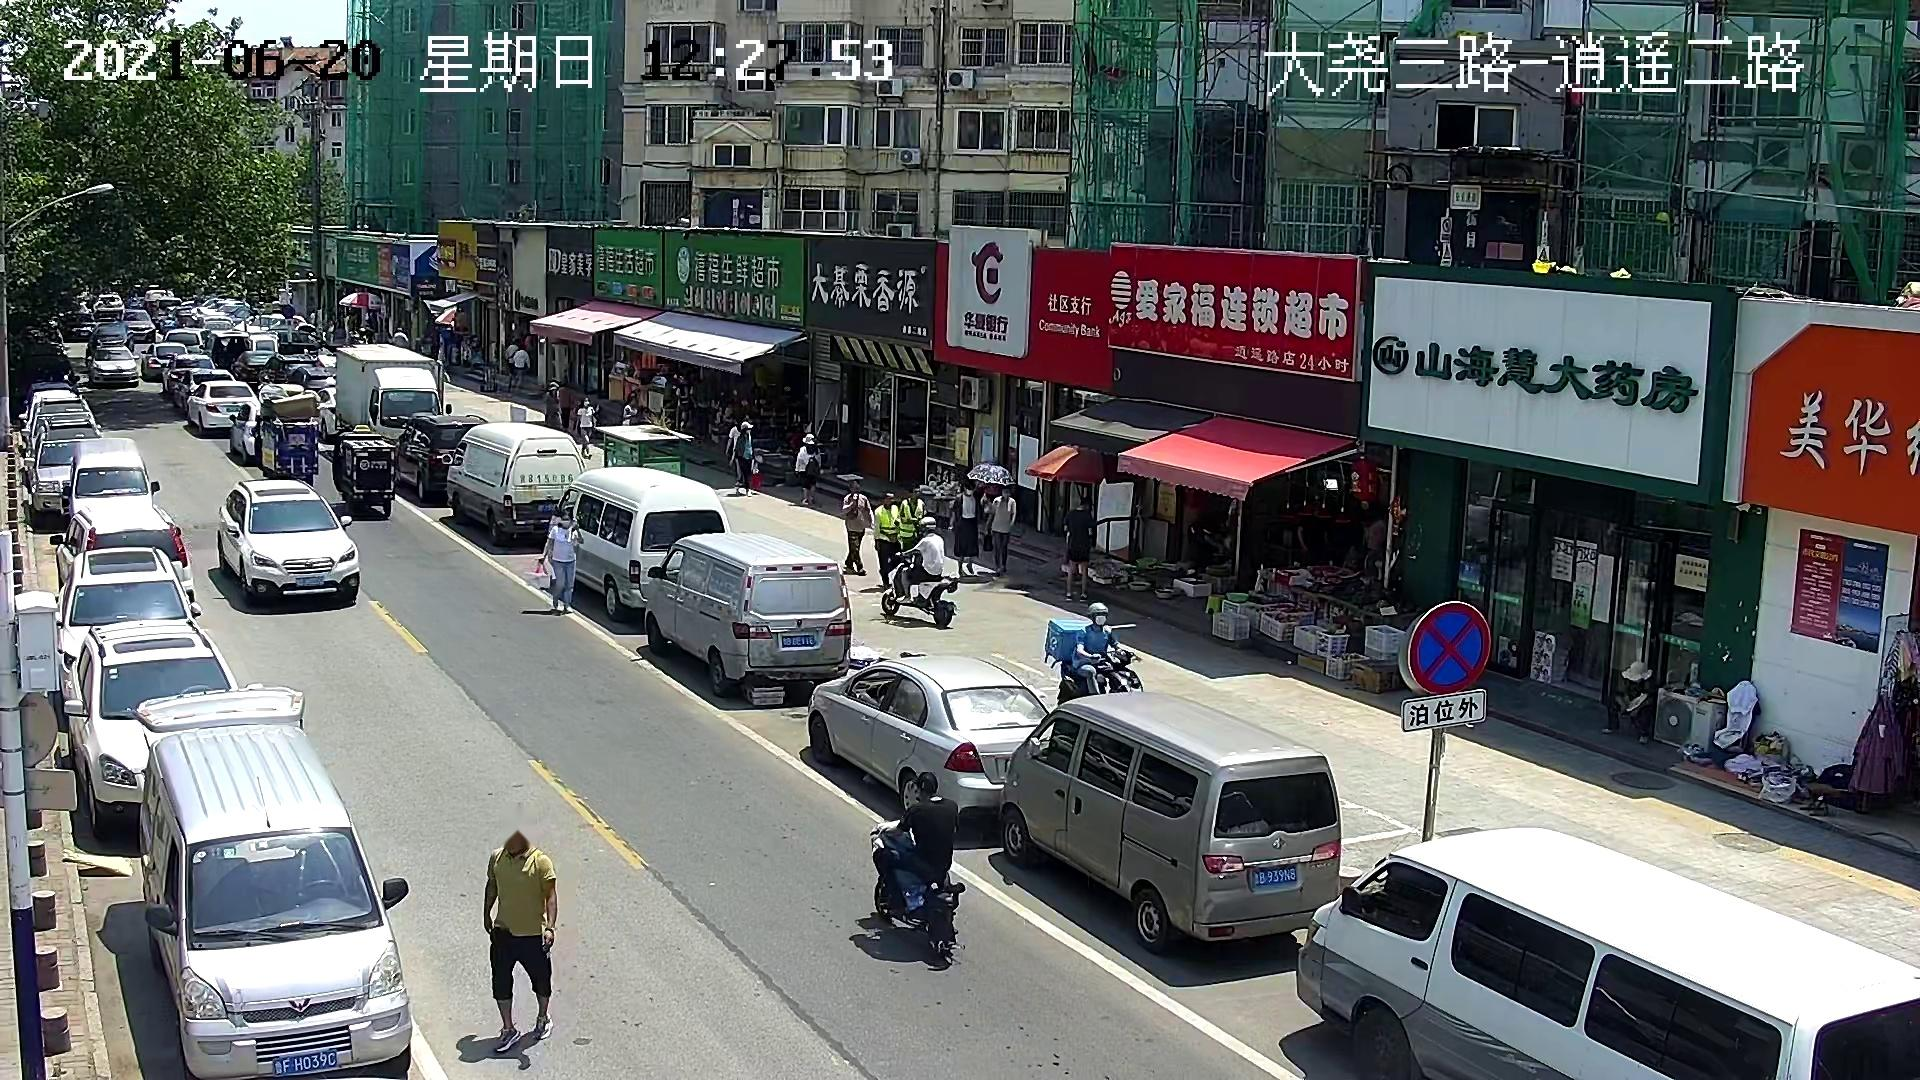chair: (1799, 781, 1837, 818)
umbrella: (1023, 443, 1104, 487), (338, 291, 382, 311)
